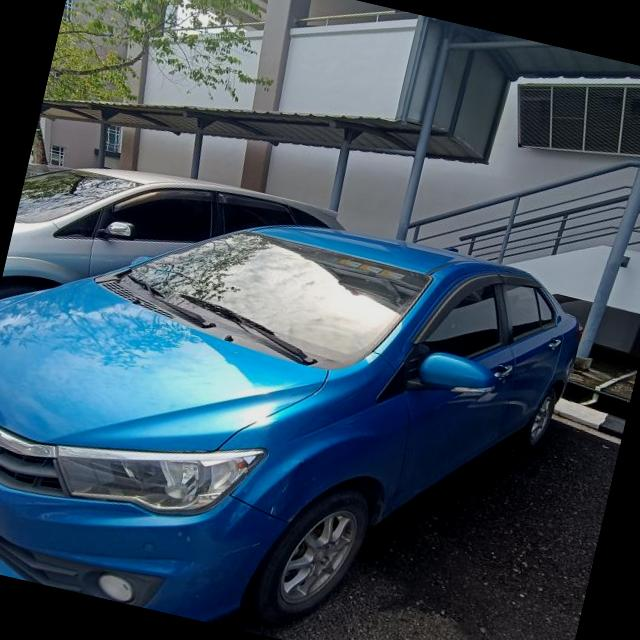PeroduaBezza: (0, 151, 595, 640)
